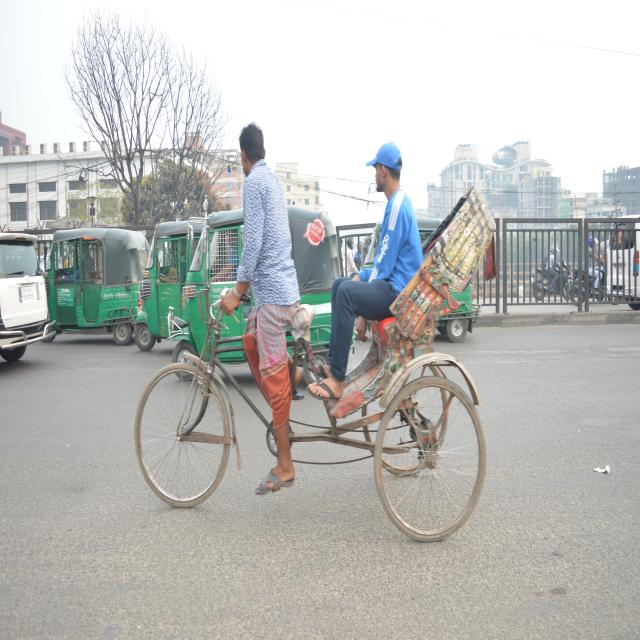microbus: (0, 220, 53, 374), (607, 214, 640, 307)
motorbike: (564, 269, 606, 311), (528, 260, 566, 303)
